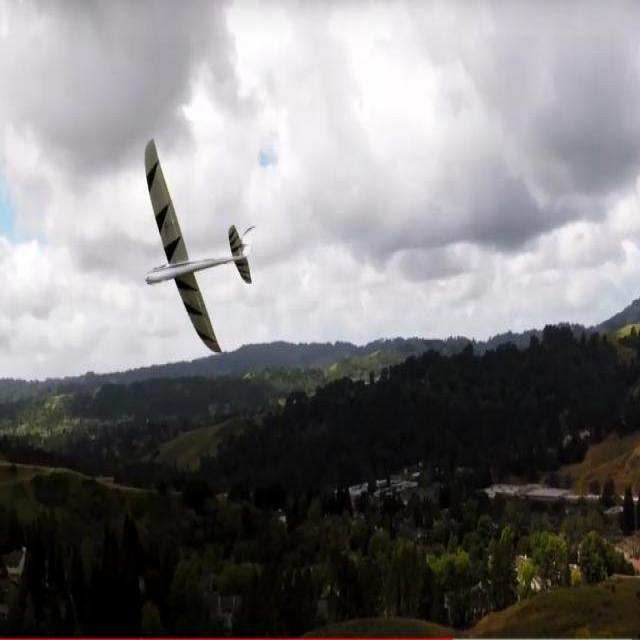iha: (123, 135, 272, 375)
